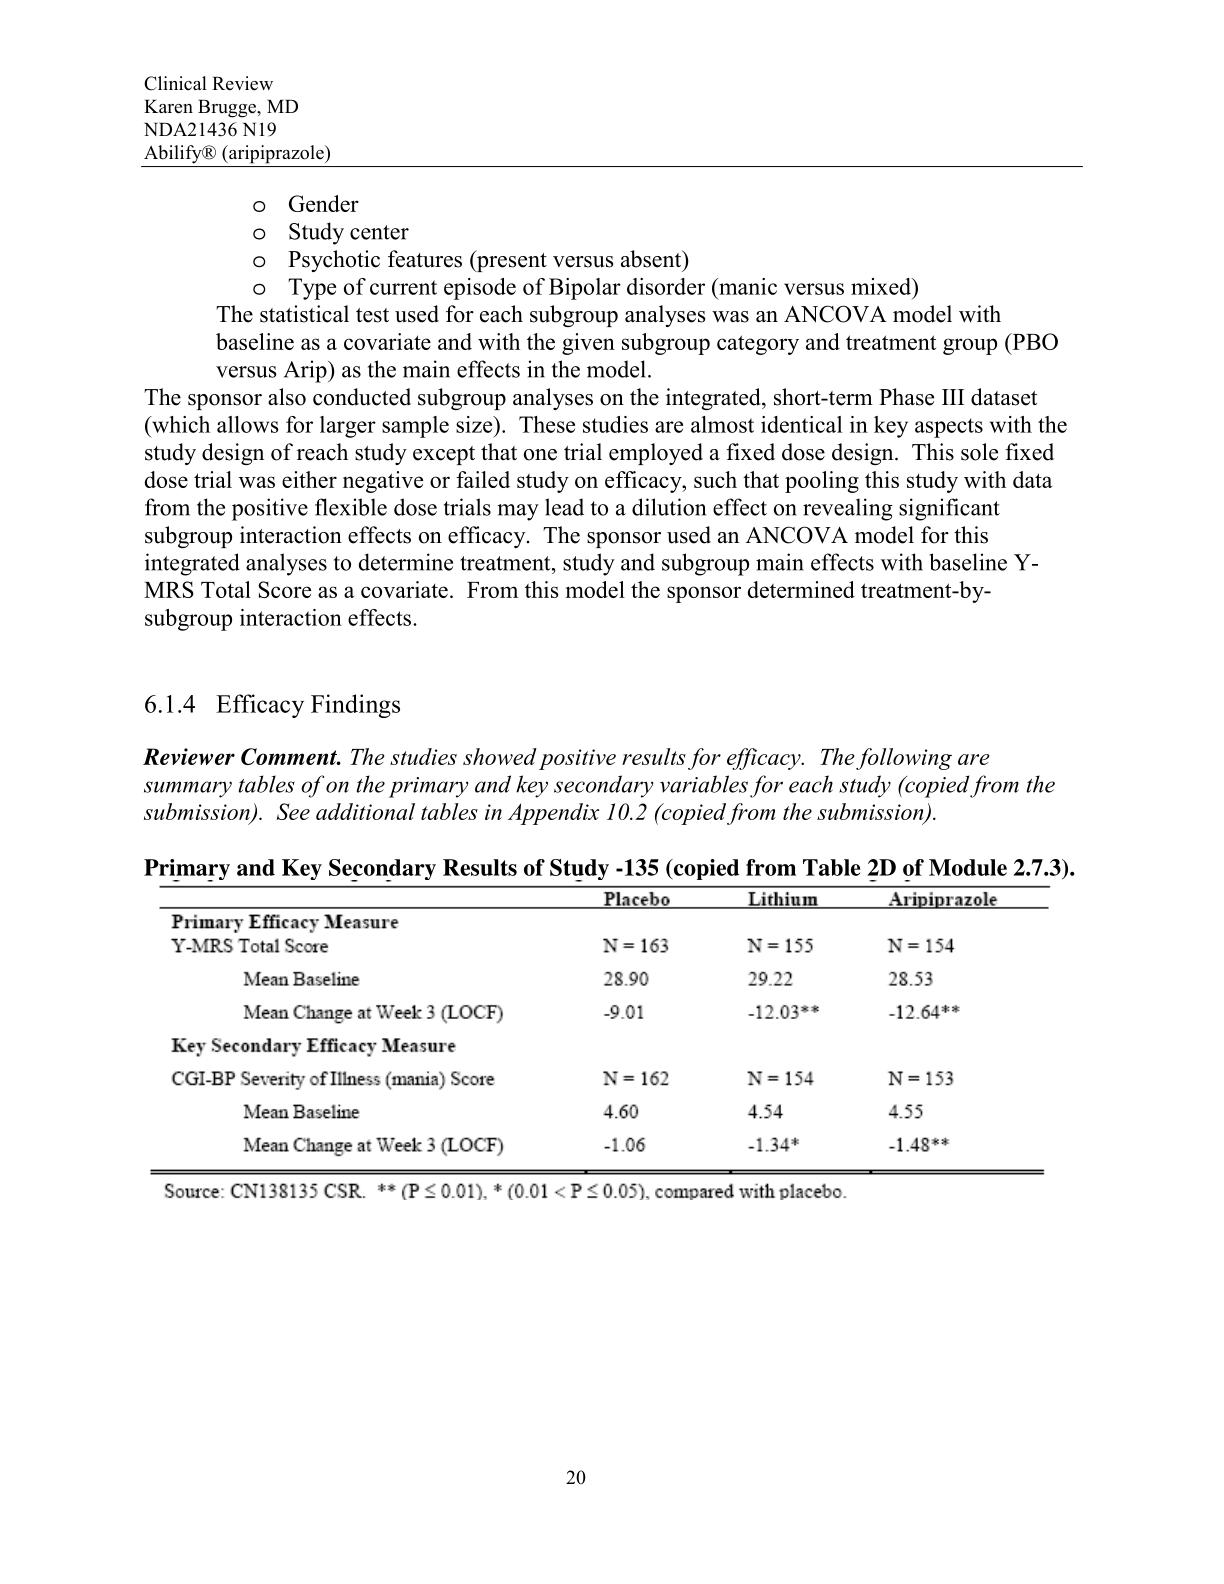partial_lined: (149, 885, 1050, 1175)
